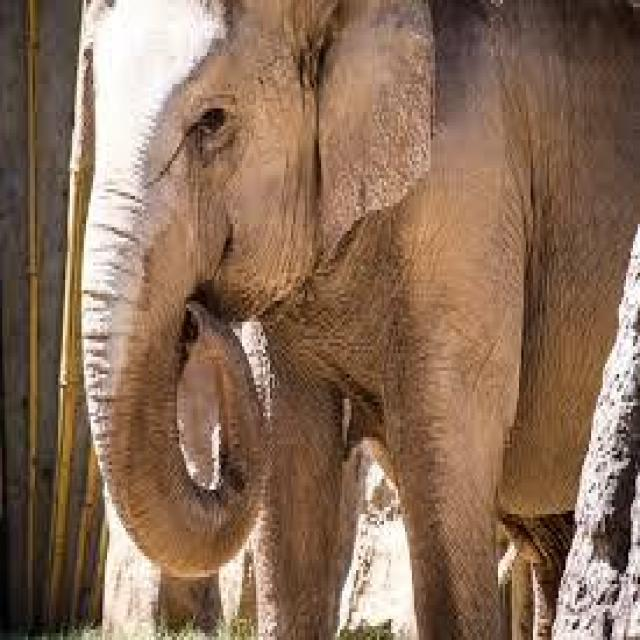Elephant: (81, 0, 556, 637)
